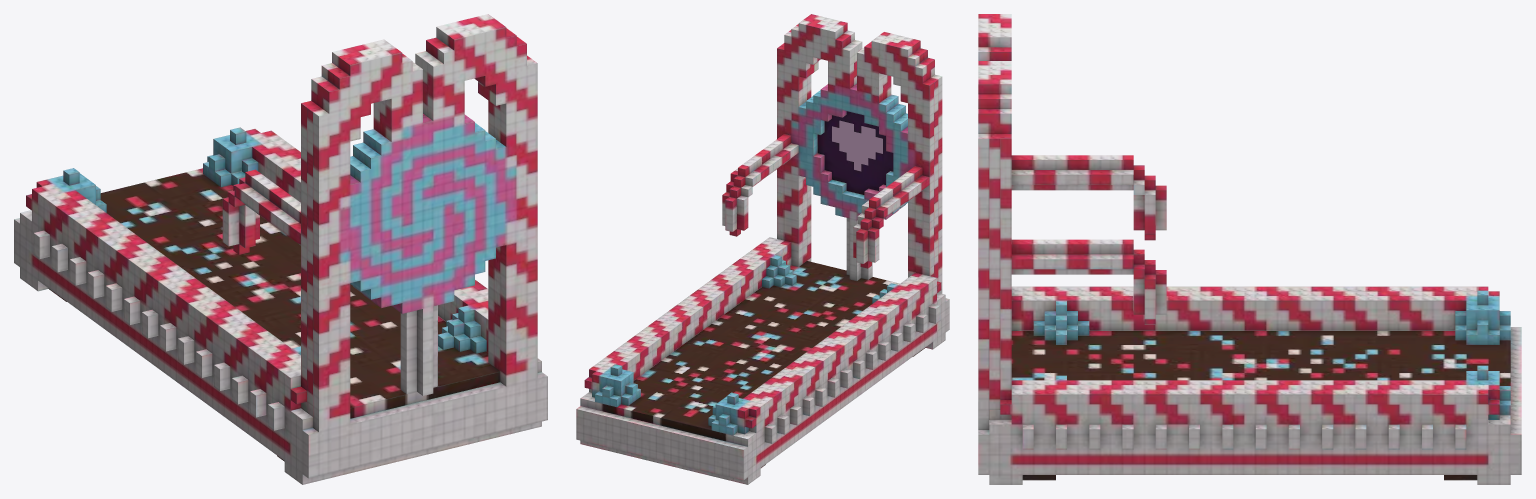
File: candy-rush.glb
3 views of the same model, side by side, from view 1: azimuth 30°, elevation 25°; view 2: azimuth 150°, elevation 25°; view 3: azimuth 270°, elevation 25° (orthographic). The views are drawn at different scales.
Parts seen in each view (by area): view 1: Body.001; view 2: Body.001, Glow.001; view 3: Body.001.
Boxes of the visible parts, x1,y1,x2,y2 form: Body.001: (14, 14, 547, 484); Body.001: (576, 14, 949, 484); Glow.001: (832, 120, 882, 171); Body.001: (978, 14, 1521, 484).
Bounding box in the file's own units: 5 × 7.6 × 9.8.
Materials: 2 (1 with a texture image).
